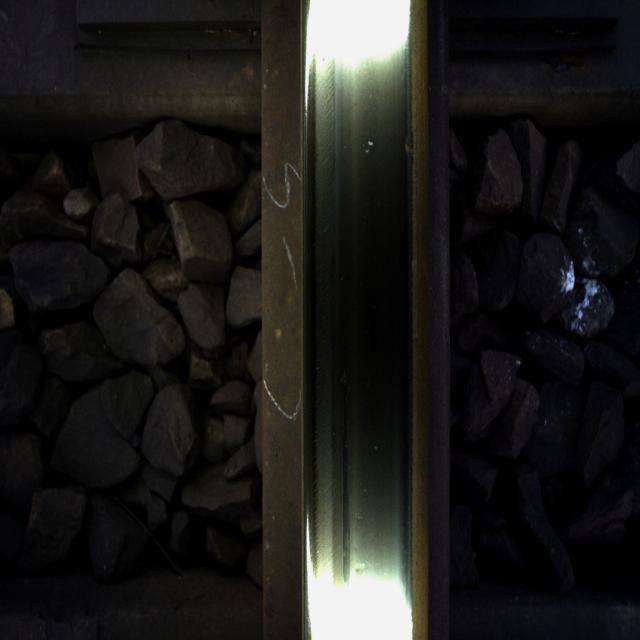break: (316, 50, 400, 599)
